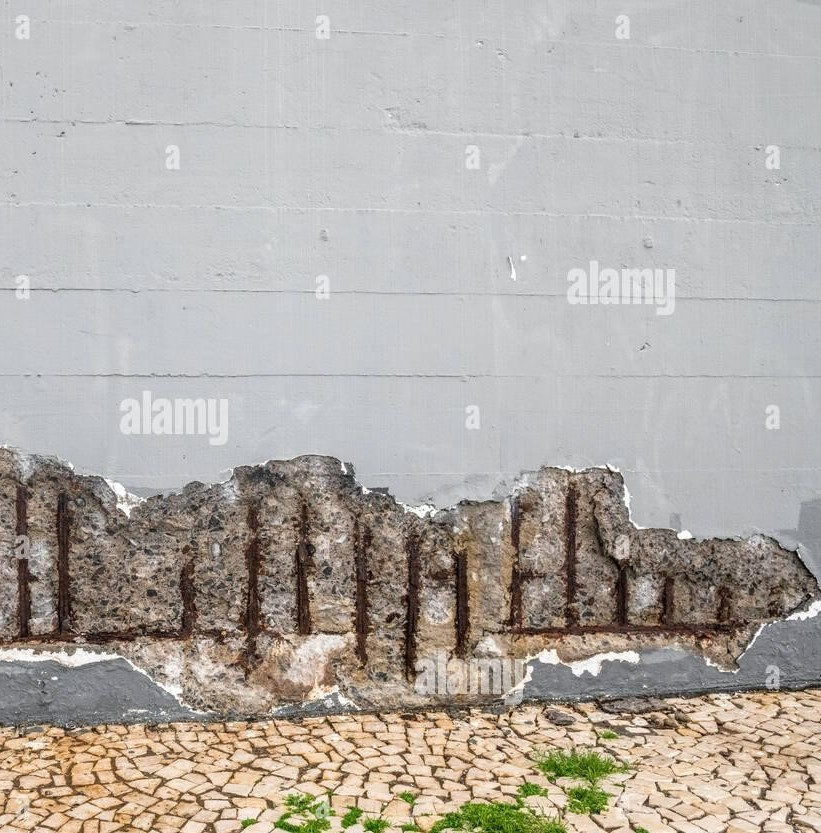Exposed reinforcement: (237, 507, 264, 701), (11, 628, 280, 644), (506, 621, 751, 635), (352, 520, 374, 666), (18, 485, 39, 636), (402, 531, 422, 682), (294, 503, 316, 635), (451, 547, 472, 661), (55, 491, 70, 632), (509, 495, 523, 627), (565, 488, 579, 606), (178, 555, 199, 633), (657, 576, 675, 625), (614, 566, 629, 624), (523, 567, 547, 584), (716, 598, 730, 622), (317, 628, 349, 636)
Spalling: (1, 442, 821, 718)
